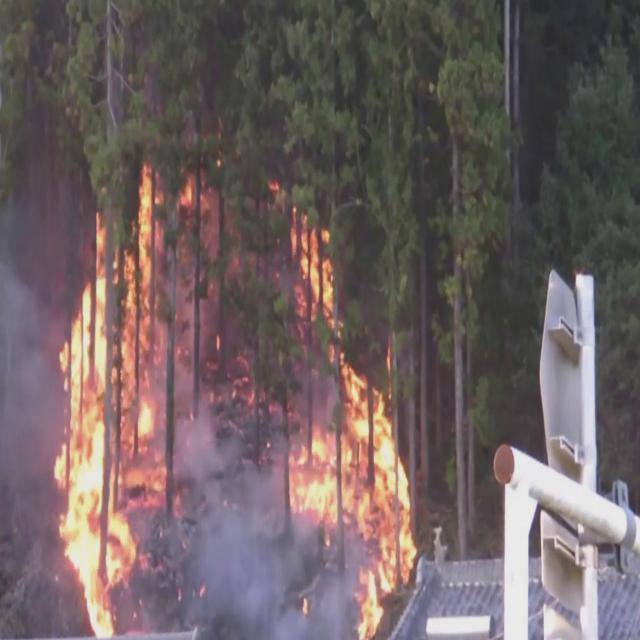Fire: (44, 162, 170, 638), (289, 206, 417, 638), (183, 184, 193, 203)
